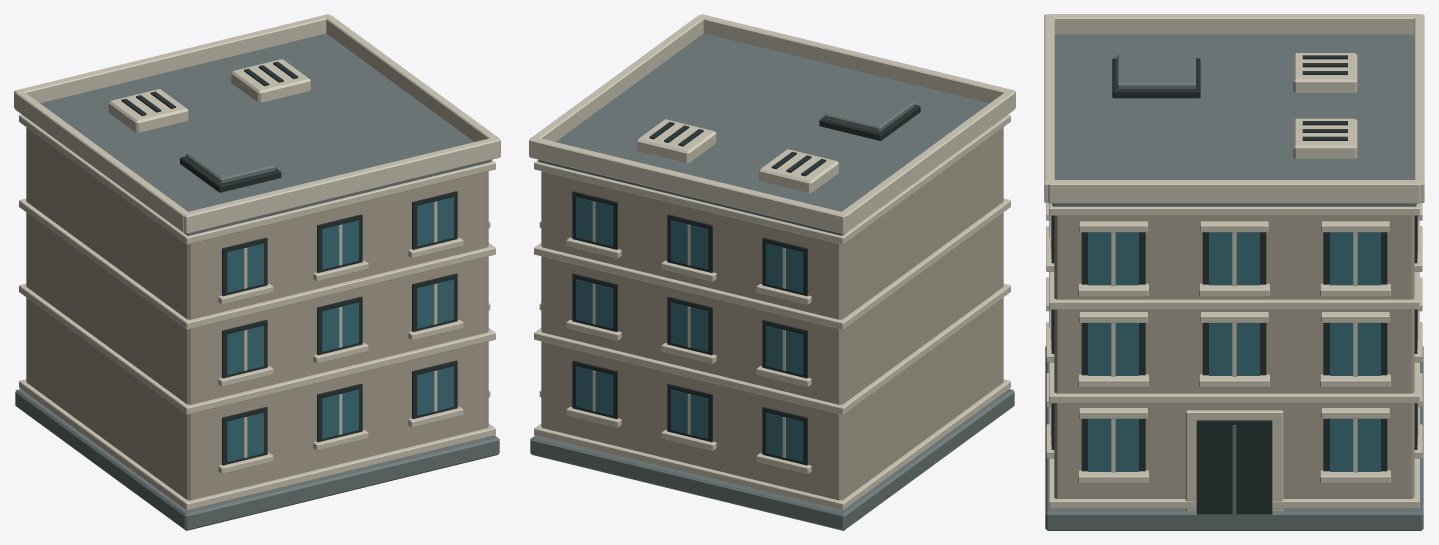
File: civilian_block.glb
3 views of the same model, side by side, from view 1: azimuth 30°, elevation 25°; view 2: azimuth 150°, elevation 25°; view 3: azimuth 270°, elevation 25° (orthographic). The views are drawn at different scales.
Parts seen in each view (by area): view 1: civilian_block; view 2: civilian_block; view 3: civilian_block.
Part boxes in pixels (box(x1,y1,x2,y2)): civilian_block: box(14, 14, 500, 530); civilian_block: box(529, 14, 1015, 530); civilian_block: box(1044, 14, 1424, 530).
Size of the model in its own units: 3.51 by 3.31 by 3.27.
